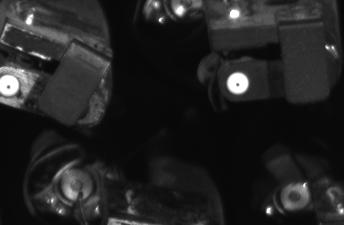fiber: (219, 69, 256, 100), (1, 71, 23, 100)
